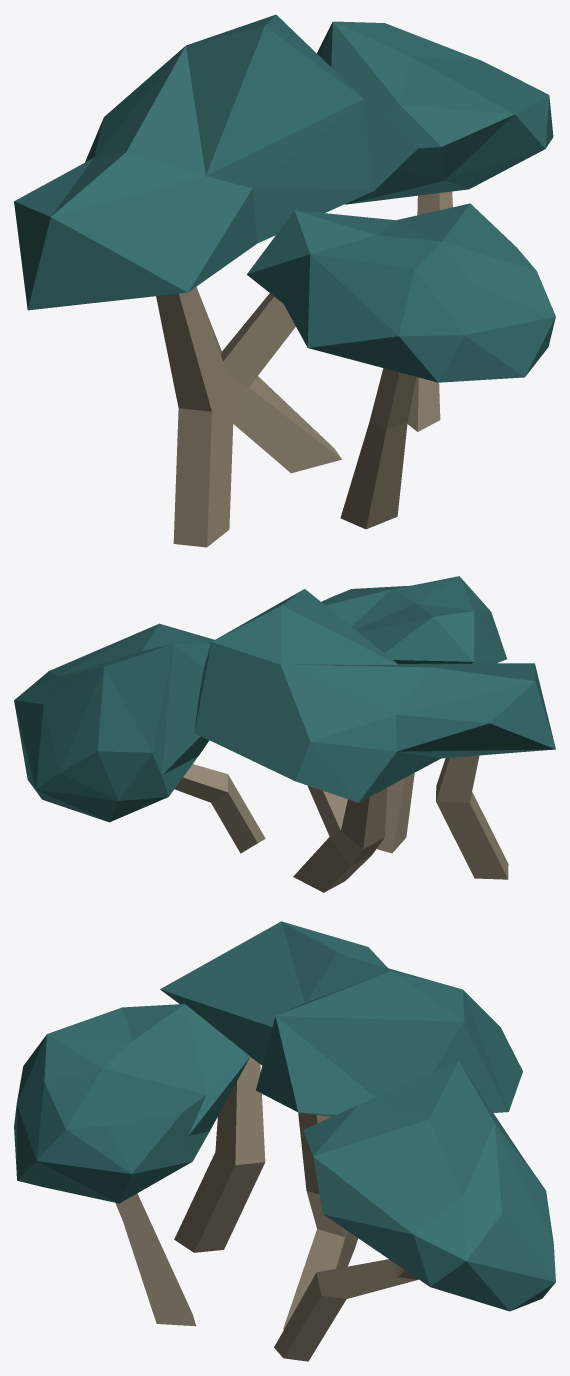
The model's file is fbBush1.fbx.
The picture shows the model from 3 angles, top to bottom: view 1: azimuth 30°, elevation 25°; view 2: azimuth 150°, elevation 25°; view 3: azimuth 270°, elevation 25°; orthographic projection. The views are drawn at different scales.
Parts seen in each view (by area): view 1: fbBush1; view 2: fbBush1; view 3: fbBush1.
Part boxes in pixels (x1,y1,x2,y2): fbBush1: (14,14,555,547); fbBush1: (14,576,555,892); fbBush1: (14,921,555,1361).
Bounding box in the file's own units: 176 × 111 × 151.
